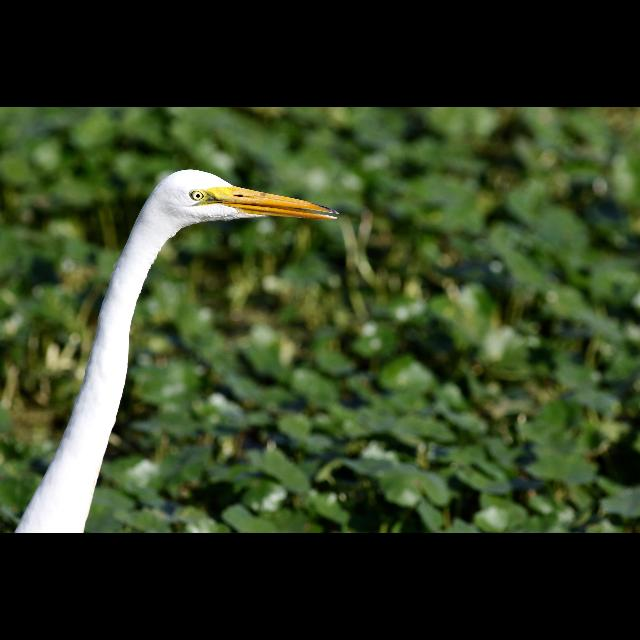egret: (17, 169, 339, 531)
